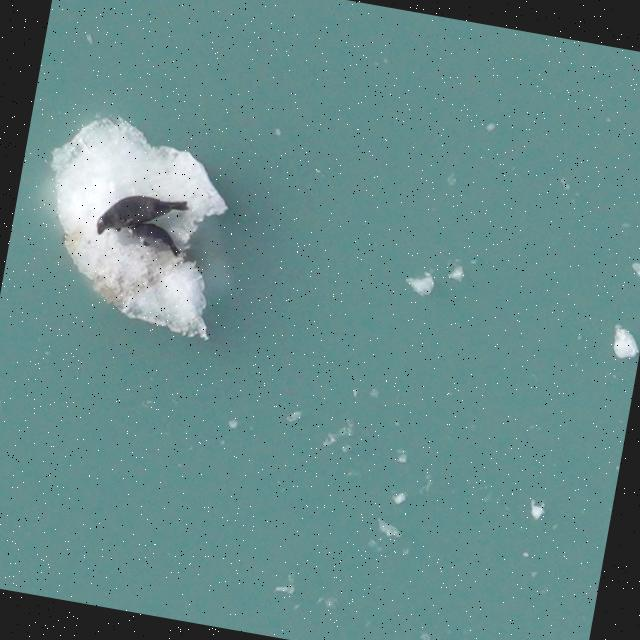seal: (88, 181, 193, 252), (116, 215, 188, 261)
